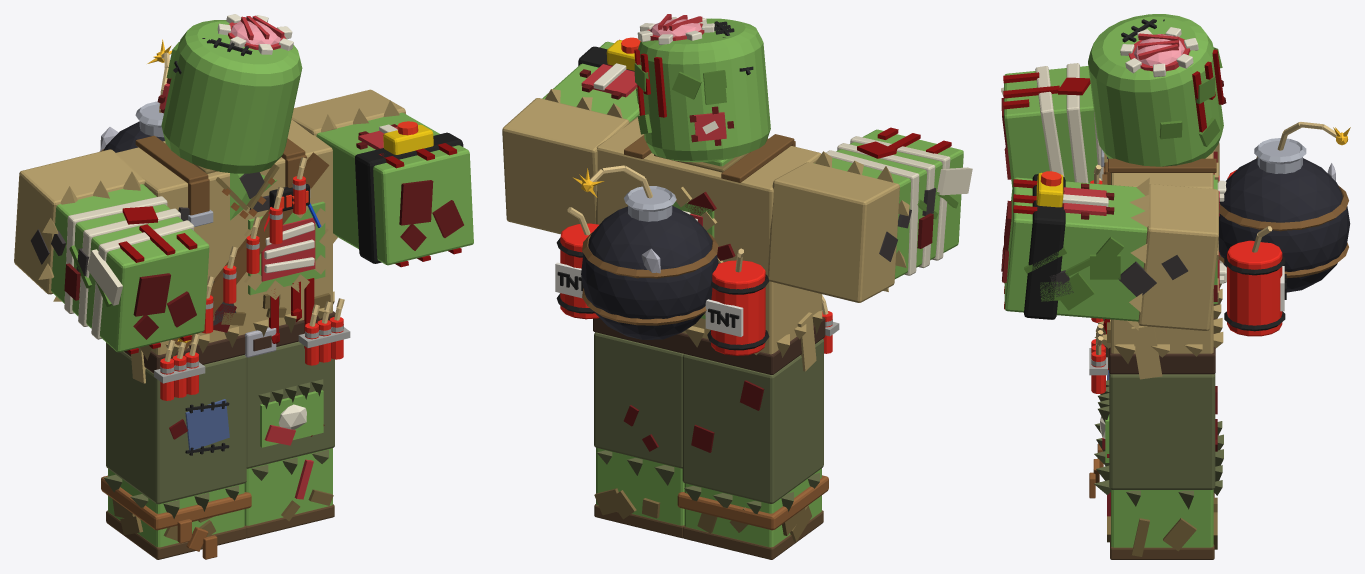
Rendered from zombi_explosivo.glb.
The picture shows the model from 3 angles, left to right: view 1: azimuth 30°, elevation 25°; view 2: azimuth 150°, elevation 25°; view 3: azimuth 270°, elevation 25°; orthographic projection.
Visible parts, largest first — view 1: Torso, RightArm, RightLeg, LeftArm, Head, LeftLeg; view 2: Torso, RightArm, RightLeg, Head, LeftLeg, LeftArm; view 3: Torso, LeftArm, LeftLeg, Head, RightArm, RightLeg.
Part boxes in pixels (x1,y1,x2,y2): Torso: (99, 39, 350, 400); RightArm: (14, 149, 209, 354); RightLeg: (101, 342, 251, 559); LeftArm: (291, 89, 473, 267); Head: (157, 14, 302, 173); LeftLeg: (244, 341, 334, 538); Torso: (555, 115, 839, 374); RightArm: (767, 127, 972, 302); RightLeg: (677, 339, 828, 559); Head: (634, 14, 770, 162); LeftLeg: (594, 332, 684, 538); LeftArm: (502, 37, 640, 234); Torso: (1089, 122, 1350, 393); LeftArm: (1001, 171, 1218, 330); LeftLeg: (1094, 374, 1223, 559); Head: (1088, 14, 1226, 166); RightArm: (1001, 63, 1219, 186); RightLeg: (1089, 318, 1223, 498).
Size of the model in its own units: 4.3 by 5.32 by 3.41.
Materials: 1 (1 with a texture image).
